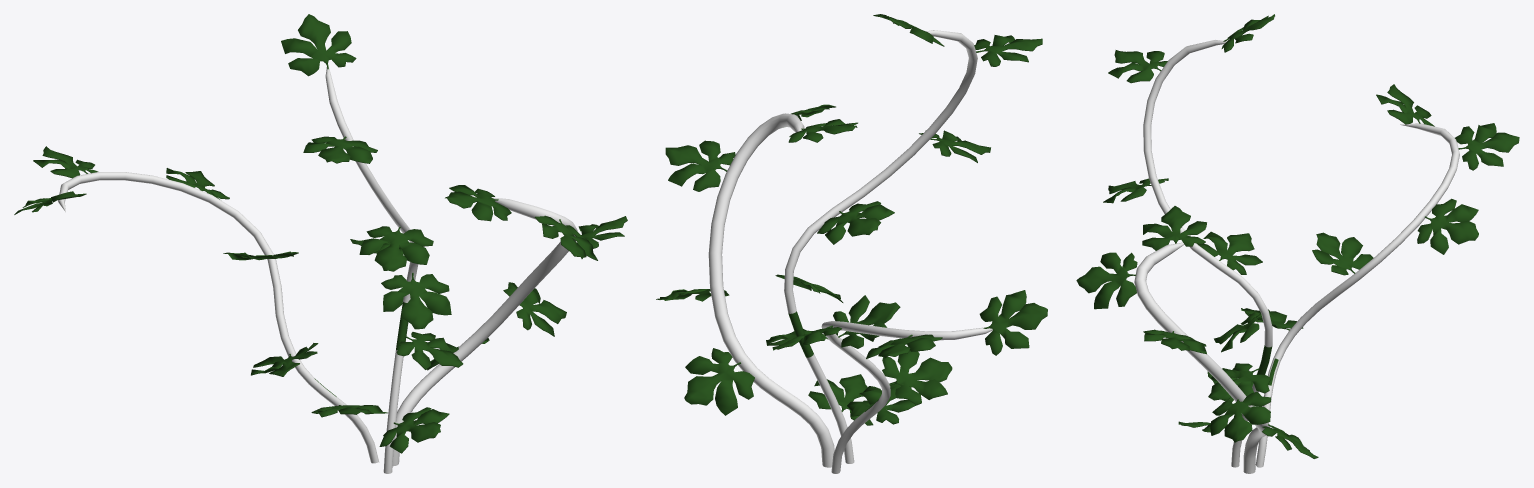
Rendered from Planta Sandia Mediana.fbx.
3 renders of one model, left to right at view 1: azimuth 30°, elevation 25°; view 2: azimuth 150°, elevation 25°; view 3: azimuth 270°, elevation 25°, orthographic. The views are drawn at different scales.
Visible parts, largest first — view 1: Planta Sandia Mediana; view 2: Planta Sandia Mediana; view 3: Planta Sandia Mediana.
Part boxes in pixels (<box>): Planta Sandia Mediana: <box>14,14,627,473</box>; Planta Sandia Mediana: <box>656,14,1047,473</box>; Planta Sandia Mediana: <box>1076,14,1519,473</box>.
Size of the model in its own units: 2201 by 1878 by 1989.
